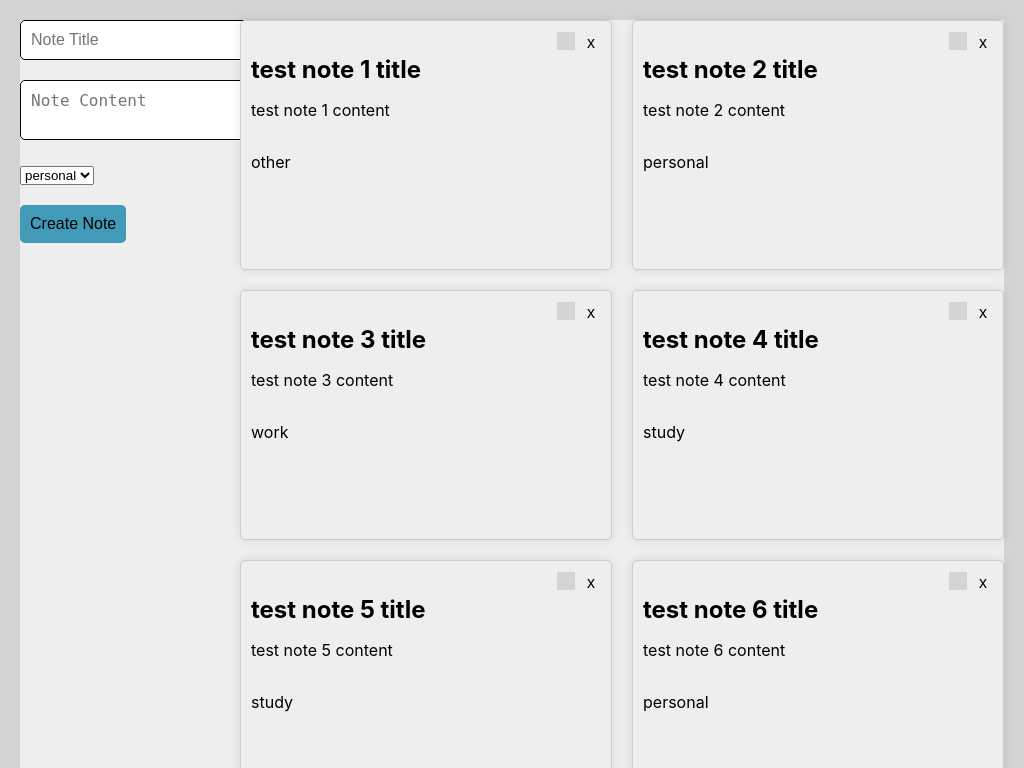
StickyNote Test › delete a note
Click the button with test id "xbut1" at point(591, 43), box x1=581 y1=31 x2=601 y2=55
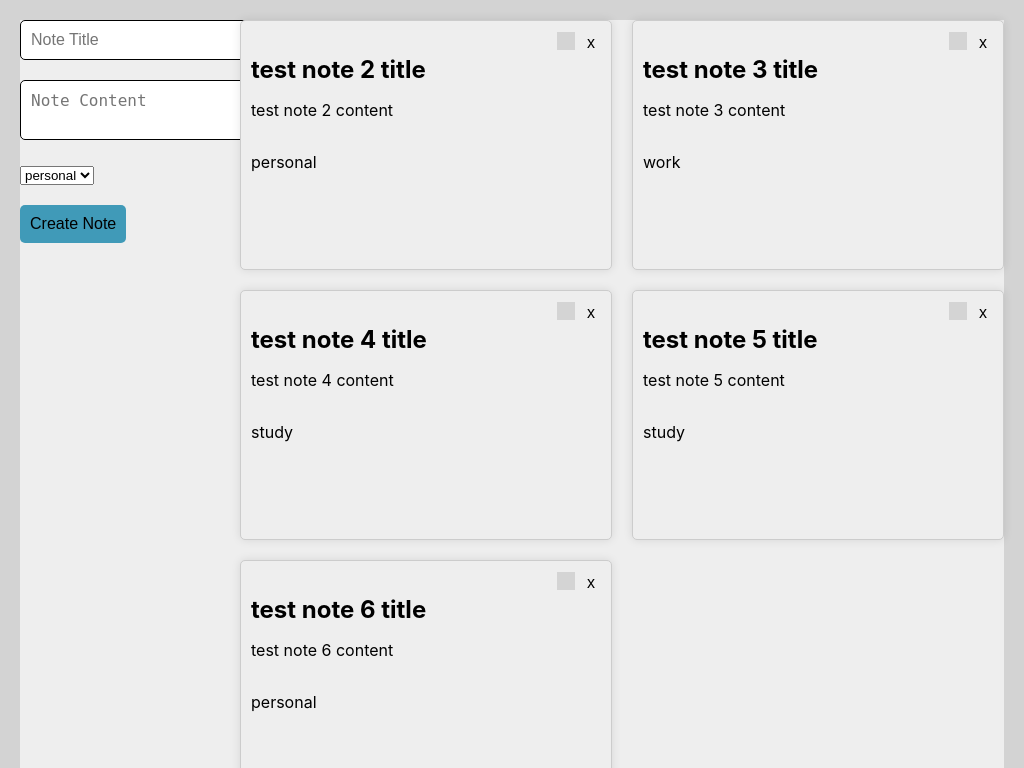
Expected: the text box "test note 1 title" is gone
